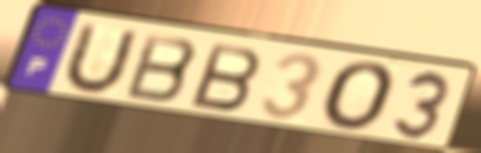3: (260, 52, 326, 124), (390, 70, 453, 142)
B: (121, 31, 201, 106), (187, 40, 264, 114)
O: (319, 59, 400, 135)
U: (57, 20, 142, 97)
